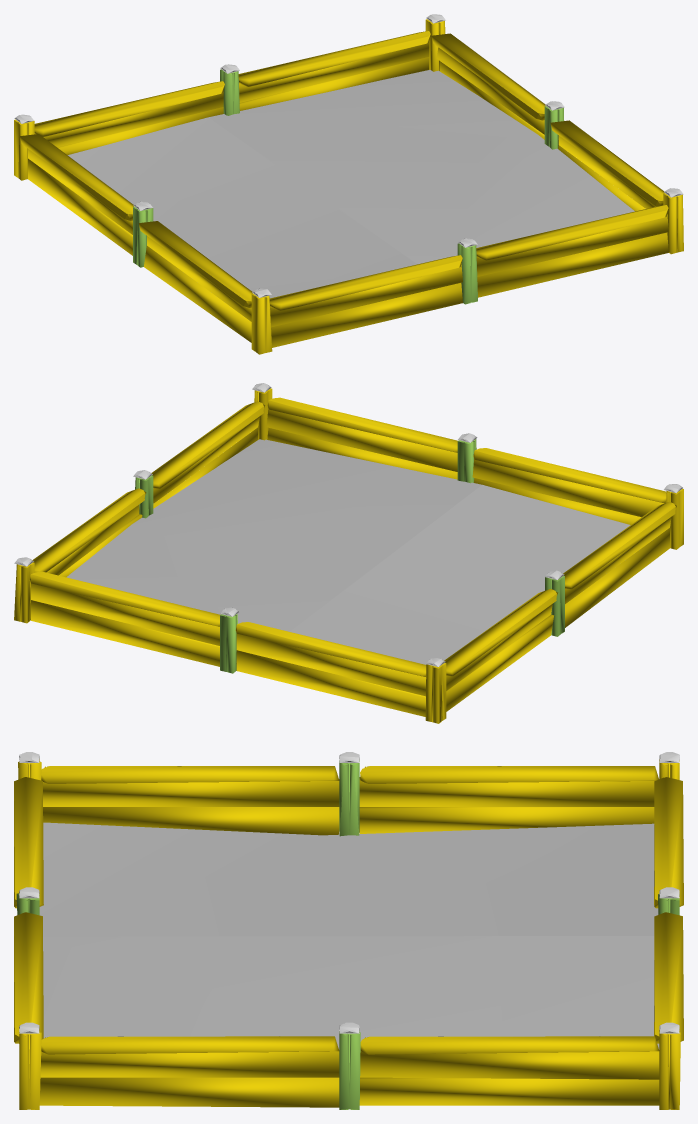
File: pis.fbx
The picture shows the model from 3 angles, top to bottom: view 1: azimuth 30°, elevation 25°; view 2: azimuth 150°, elevation 25°; view 3: azimuth 270°, elevation 25°; orthographic projection. The views are drawn at different scales.
Parts seen in each view (by area): view 1: Plane01; view 2: Plane01; view 3: Plane01.
Boxes of the visible parts, bbox=[...] form: Plane01: bbox=[14, 14, 683, 354]; Plane01: bbox=[14, 383, 683, 723]; Plane01: bbox=[14, 752, 683, 1109].
Bounding box in the file's own units: 12361 × 1623 × 12362.
